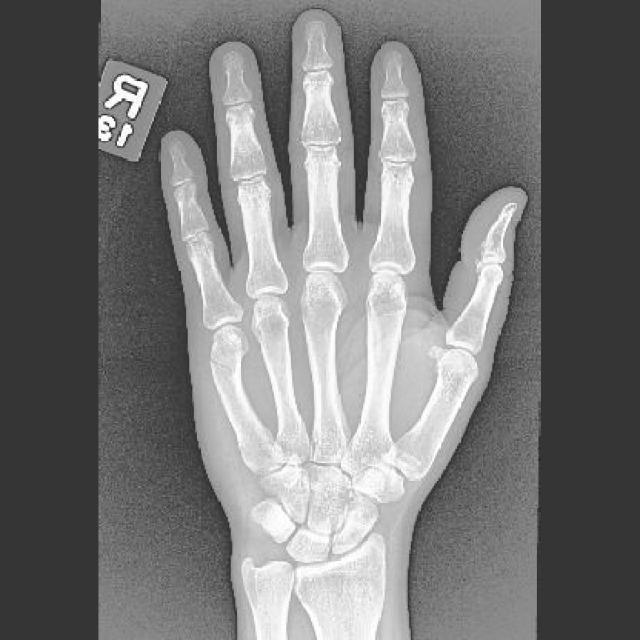Fracture: (211, 351, 245, 382)
